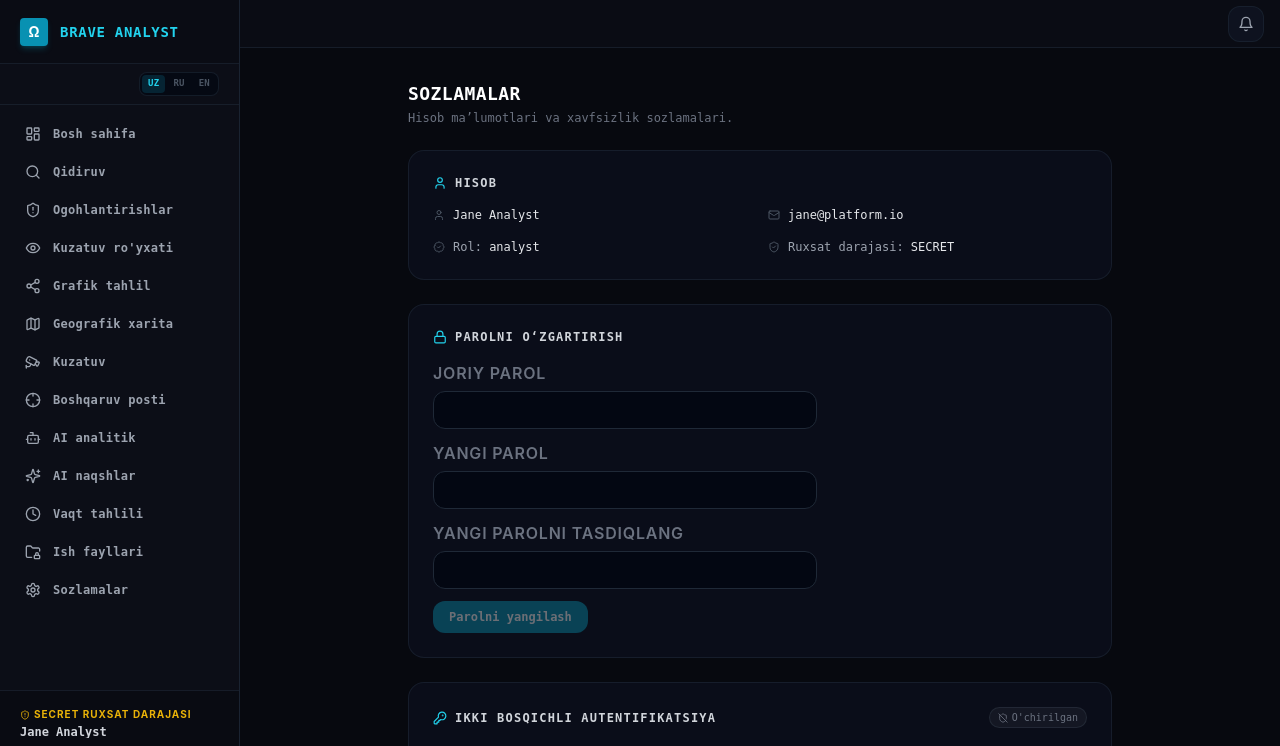
Test case: SettingsPage — change password form › blocks submission and shows a mismatch error when new/confirm passwords differ
Type "OldPass123!" into the password field below "Joriy parol" at (625, 410), box [433,391,817,429]
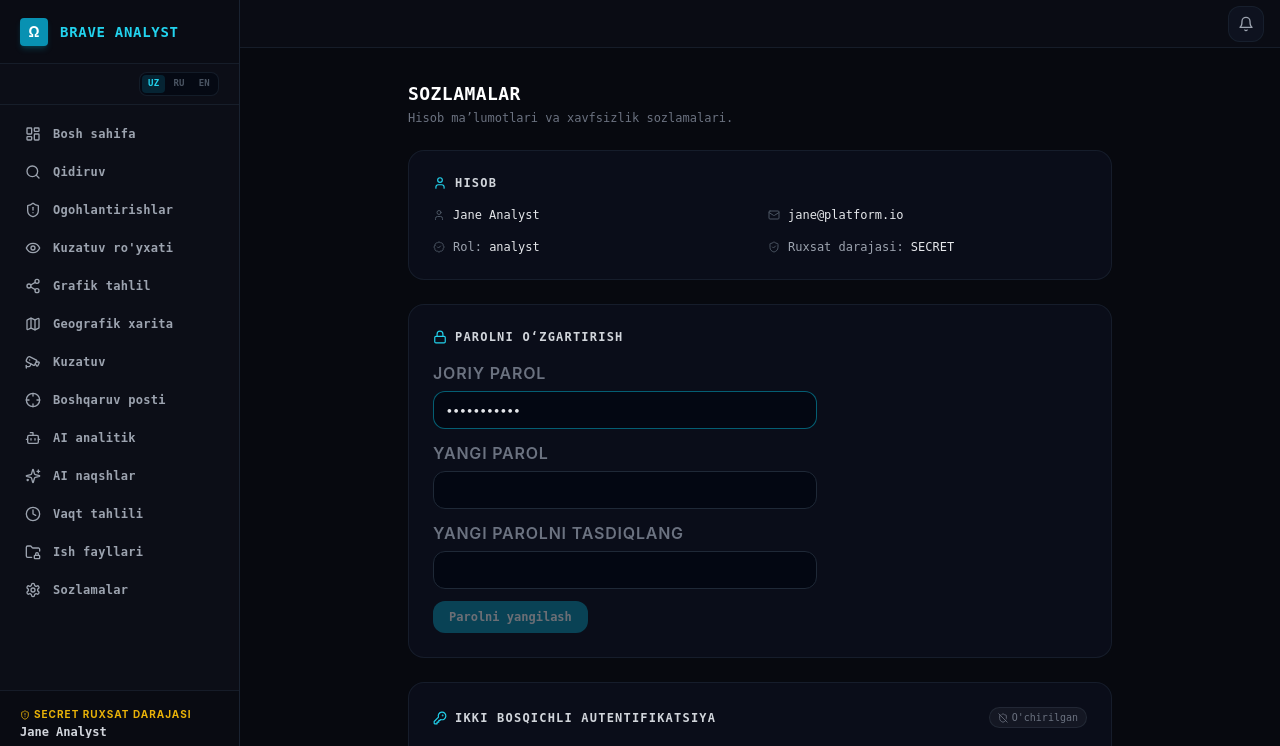
Type "NewPass123!" into the 2nd password field at (625, 490), box [433,471,817,509]
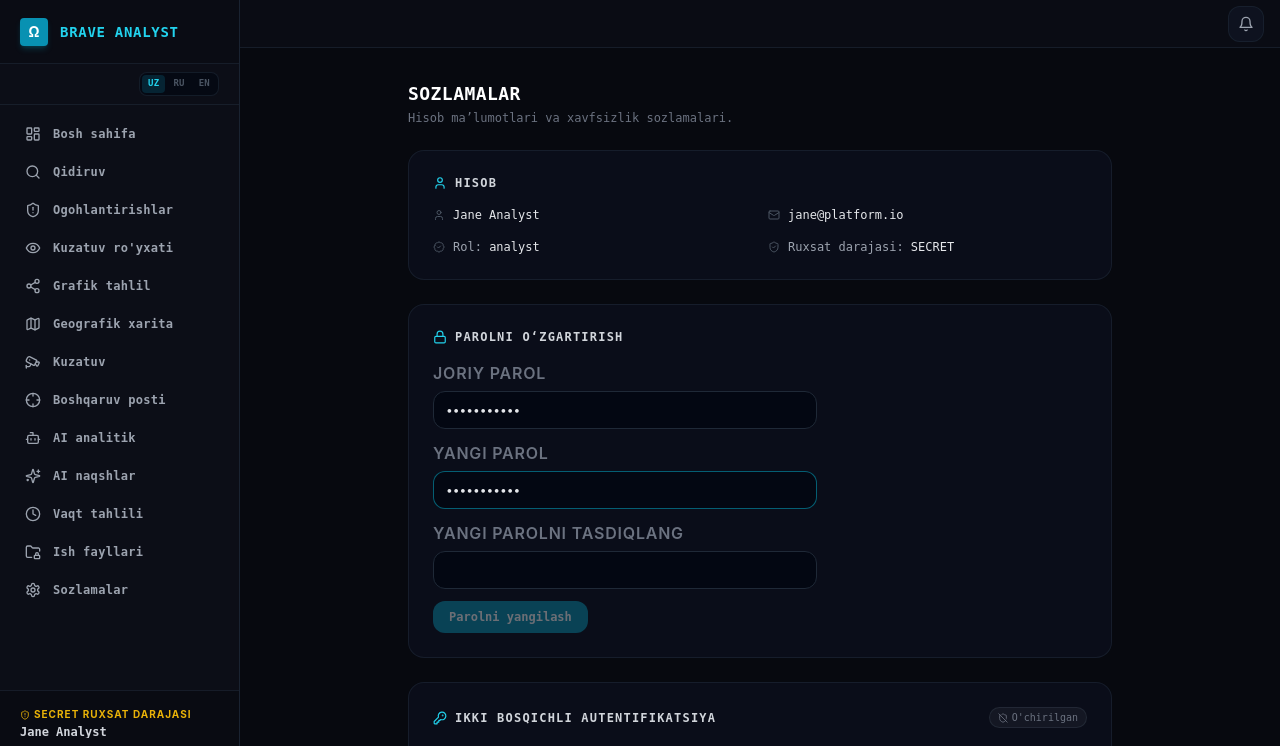
Type "Different123!" into the password field below "Yangi parolni tasdiqlang" at (625, 570), box [433,551,817,589]
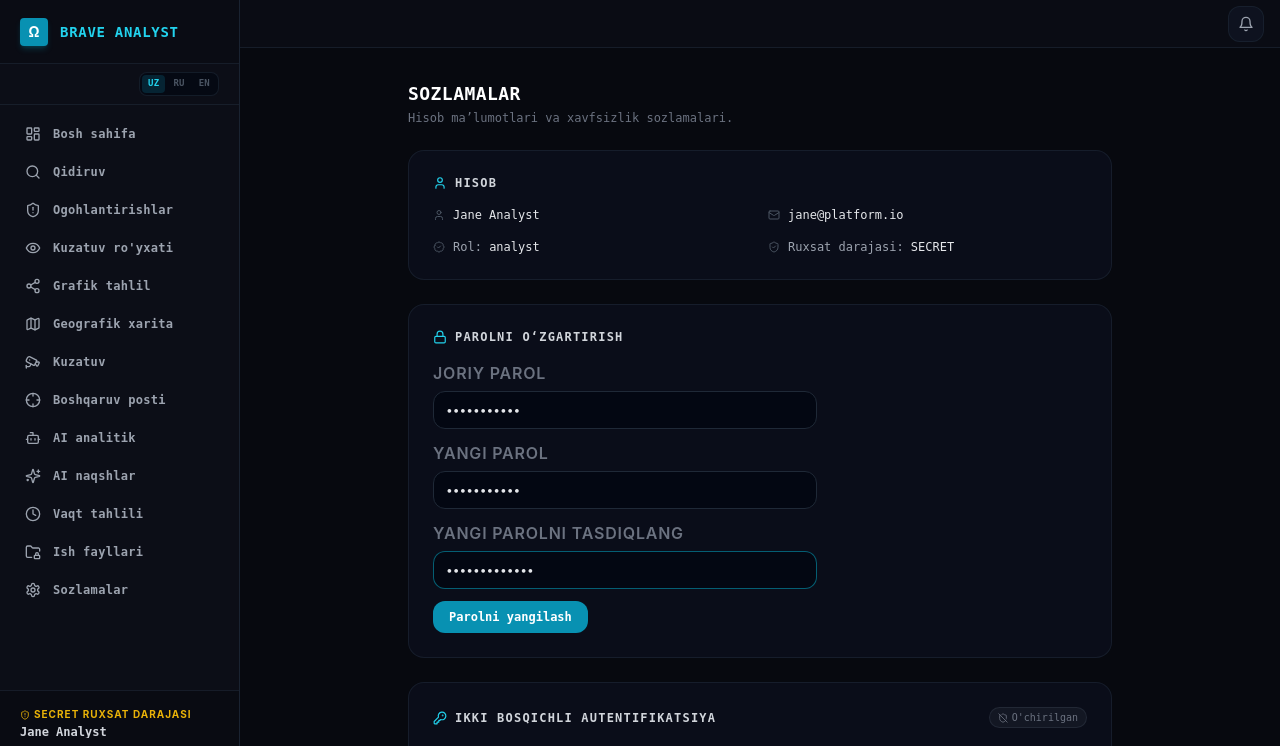
Click the button "Parolni yangilash" at (510, 617), box [433,601,588,633]
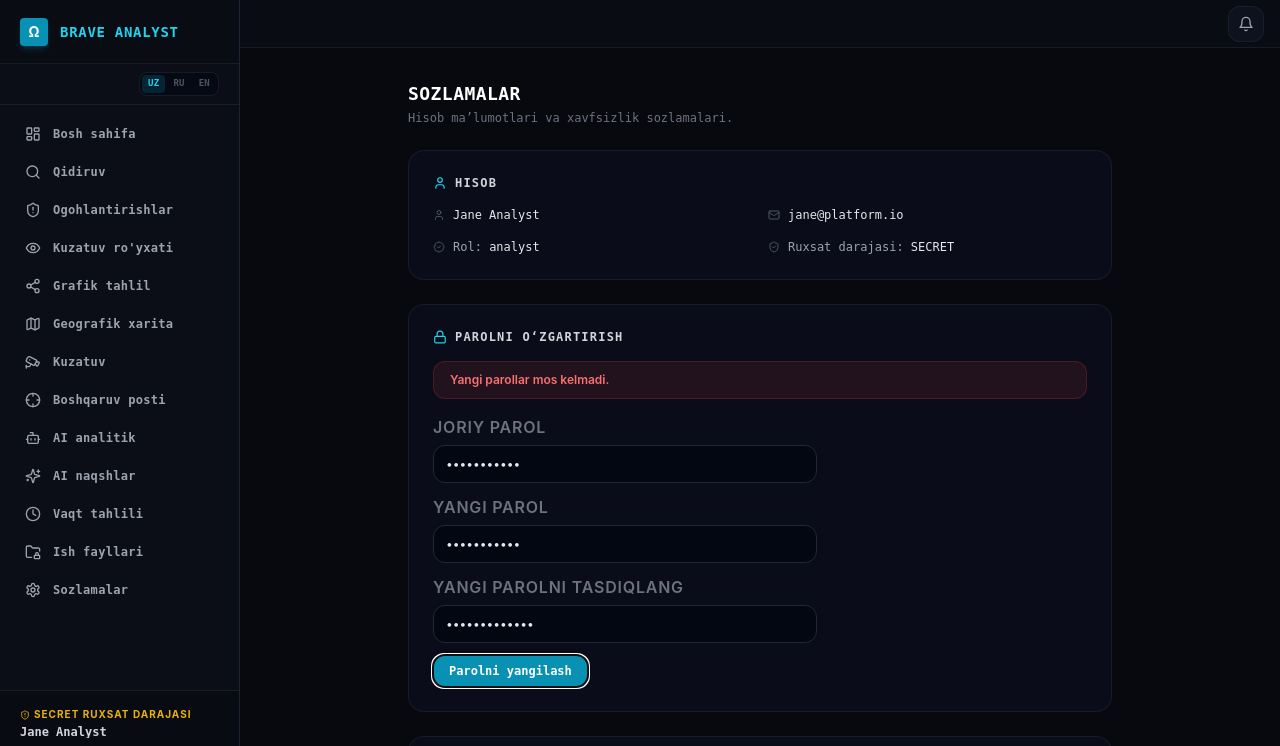
Result: the text "Yangi parollar mos kelmadi." is shown at [433,361,1087,399]
